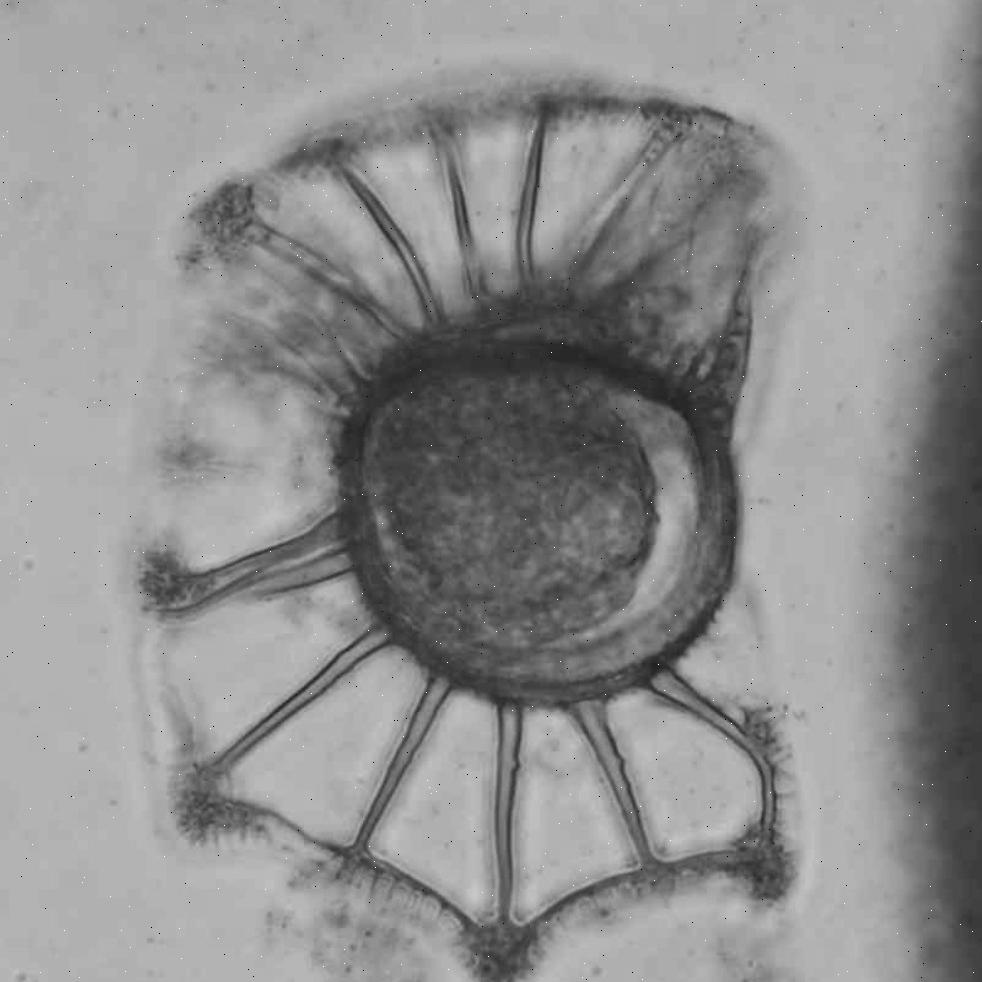ornithocercus_thumii: (135, 85, 801, 982)
